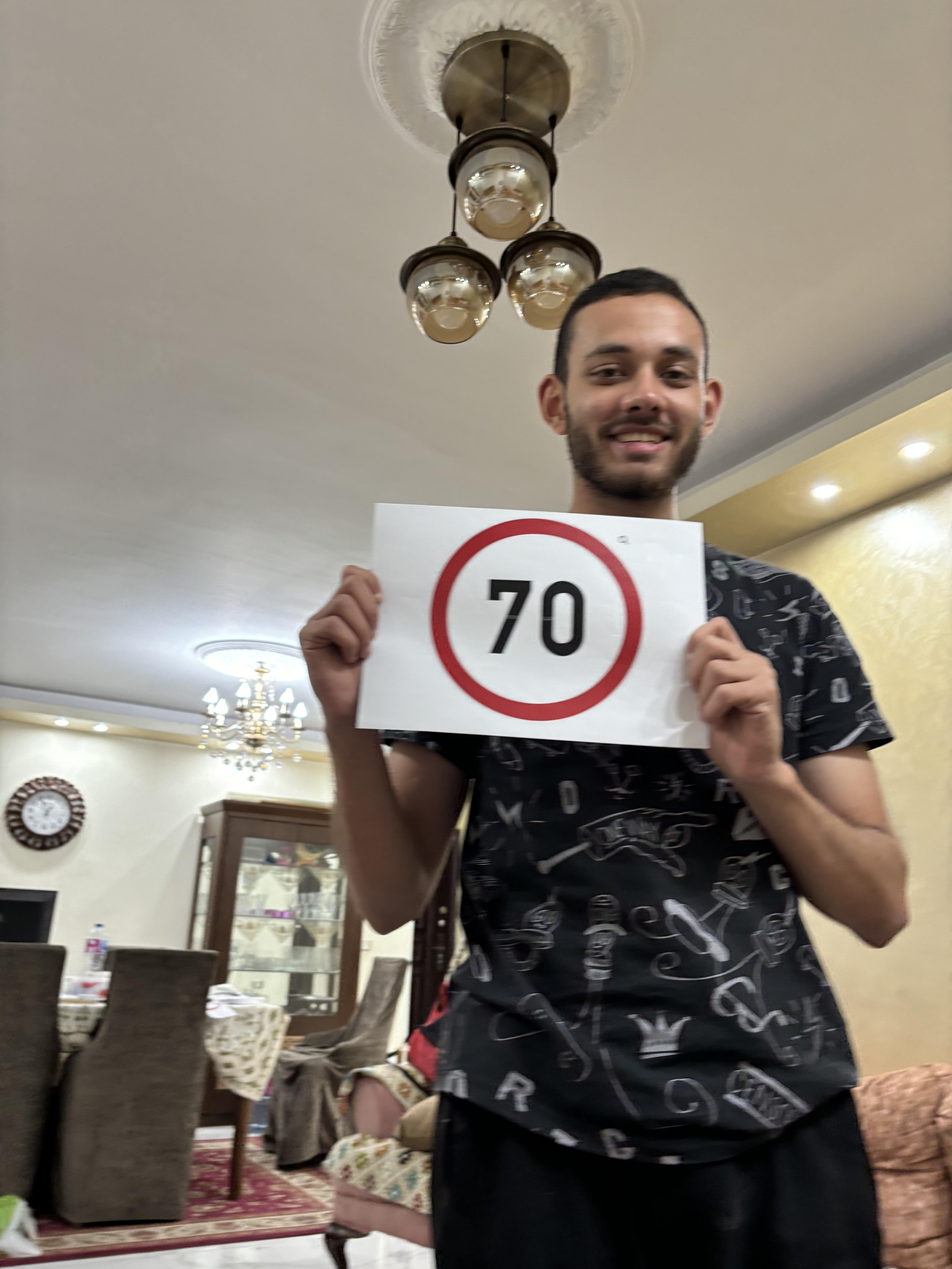70-Speed: (425, 509, 646, 726)
